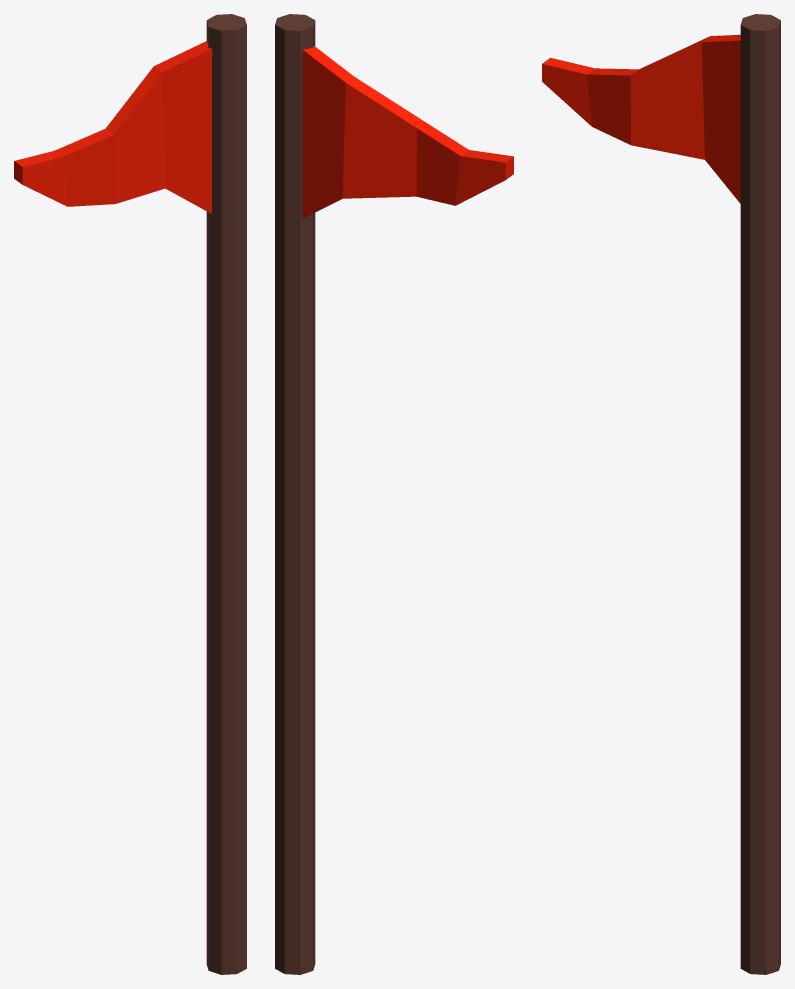
Rendered from flag_01.fbx.
3 views of the same model, side by side, from view 1: azimuth 30°, elevation 25°; view 2: azimuth 150°, elevation 25°; view 3: azimuth 330°, elevation 25° (orthographic).
Visible parts, largest first — view 1: stick, flag; view 2: stick, flag; view 3: stick, flag.
Boxes of the visible parts, <box> form: stick: <box>206,14,246,974</box>; flag: <box>14,41,212,213</box>; stick: <box>275,14,315,974</box>; flag: <box>302,46,513,218</box>; stick: <box>740,14,780,974</box>; flag: <box>542,34,740,203</box>.
Bounding box in the file's own units: 71.24 × 280 × 11.61.
